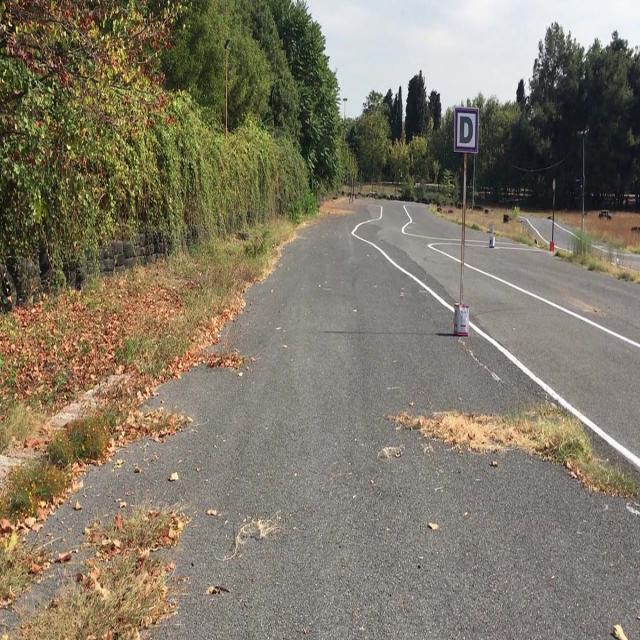durak: (454, 108, 478, 152)
